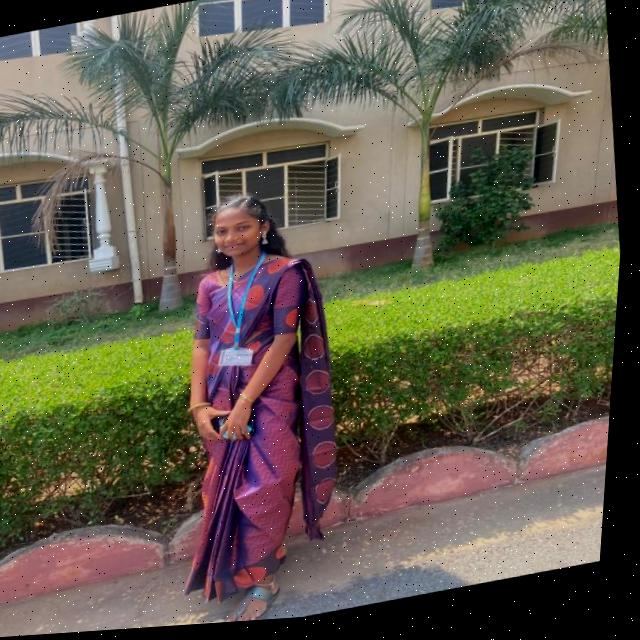id_card: (211, 258, 267, 380)
